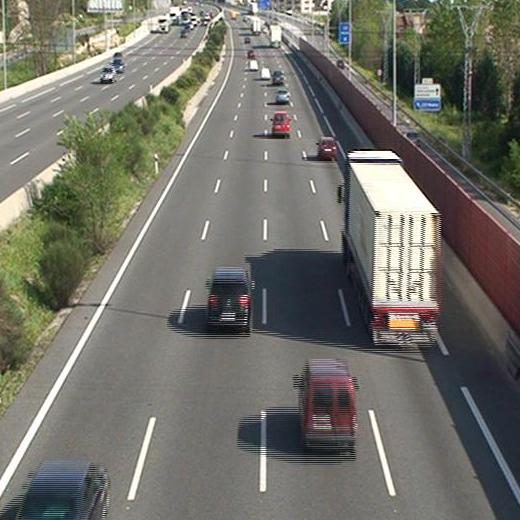car: (19, 462, 107, 520), (207, 269, 250, 324), (318, 138, 337, 158), (275, 89, 290, 101), (273, 71, 284, 84), (248, 59, 258, 69), (260, 69, 271, 78)
truck: (345, 152, 440, 345)
van: (298, 361, 358, 446), (271, 111, 289, 137)
